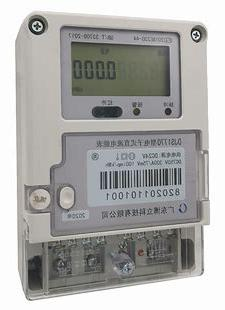digital: (24, 12, 210, 244)
